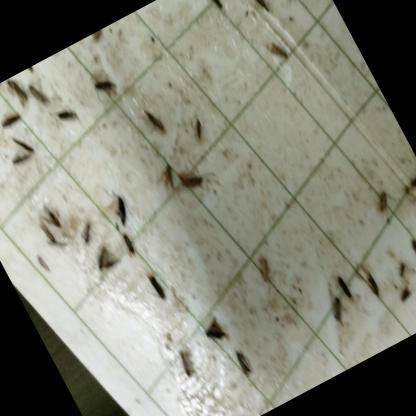prays_oleae: (30, 206, 76, 268), (164, 336, 206, 386), (194, 308, 239, 354), (315, 289, 357, 338), (86, 236, 127, 284), (261, 32, 297, 76), (229, 344, 263, 390), (116, 225, 150, 264), (175, 162, 209, 201), (0, 97, 30, 140), (39, 198, 69, 240), (361, 266, 392, 306), (2, 74, 33, 113), (24, 76, 54, 116), (143, 101, 174, 139), (366, 180, 397, 218), (182, 107, 211, 146), (92, 72, 124, 104), (108, 193, 138, 227), (154, 160, 184, 194), (143, 268, 170, 304), (6, 143, 36, 175), (11, 128, 38, 162), (330, 266, 355, 301), (53, 101, 82, 129), (392, 276, 416, 309), (390, 256, 412, 283), (401, 161, 416, 198), (404, 233, 416, 271), (239, 0, 268, 14)
